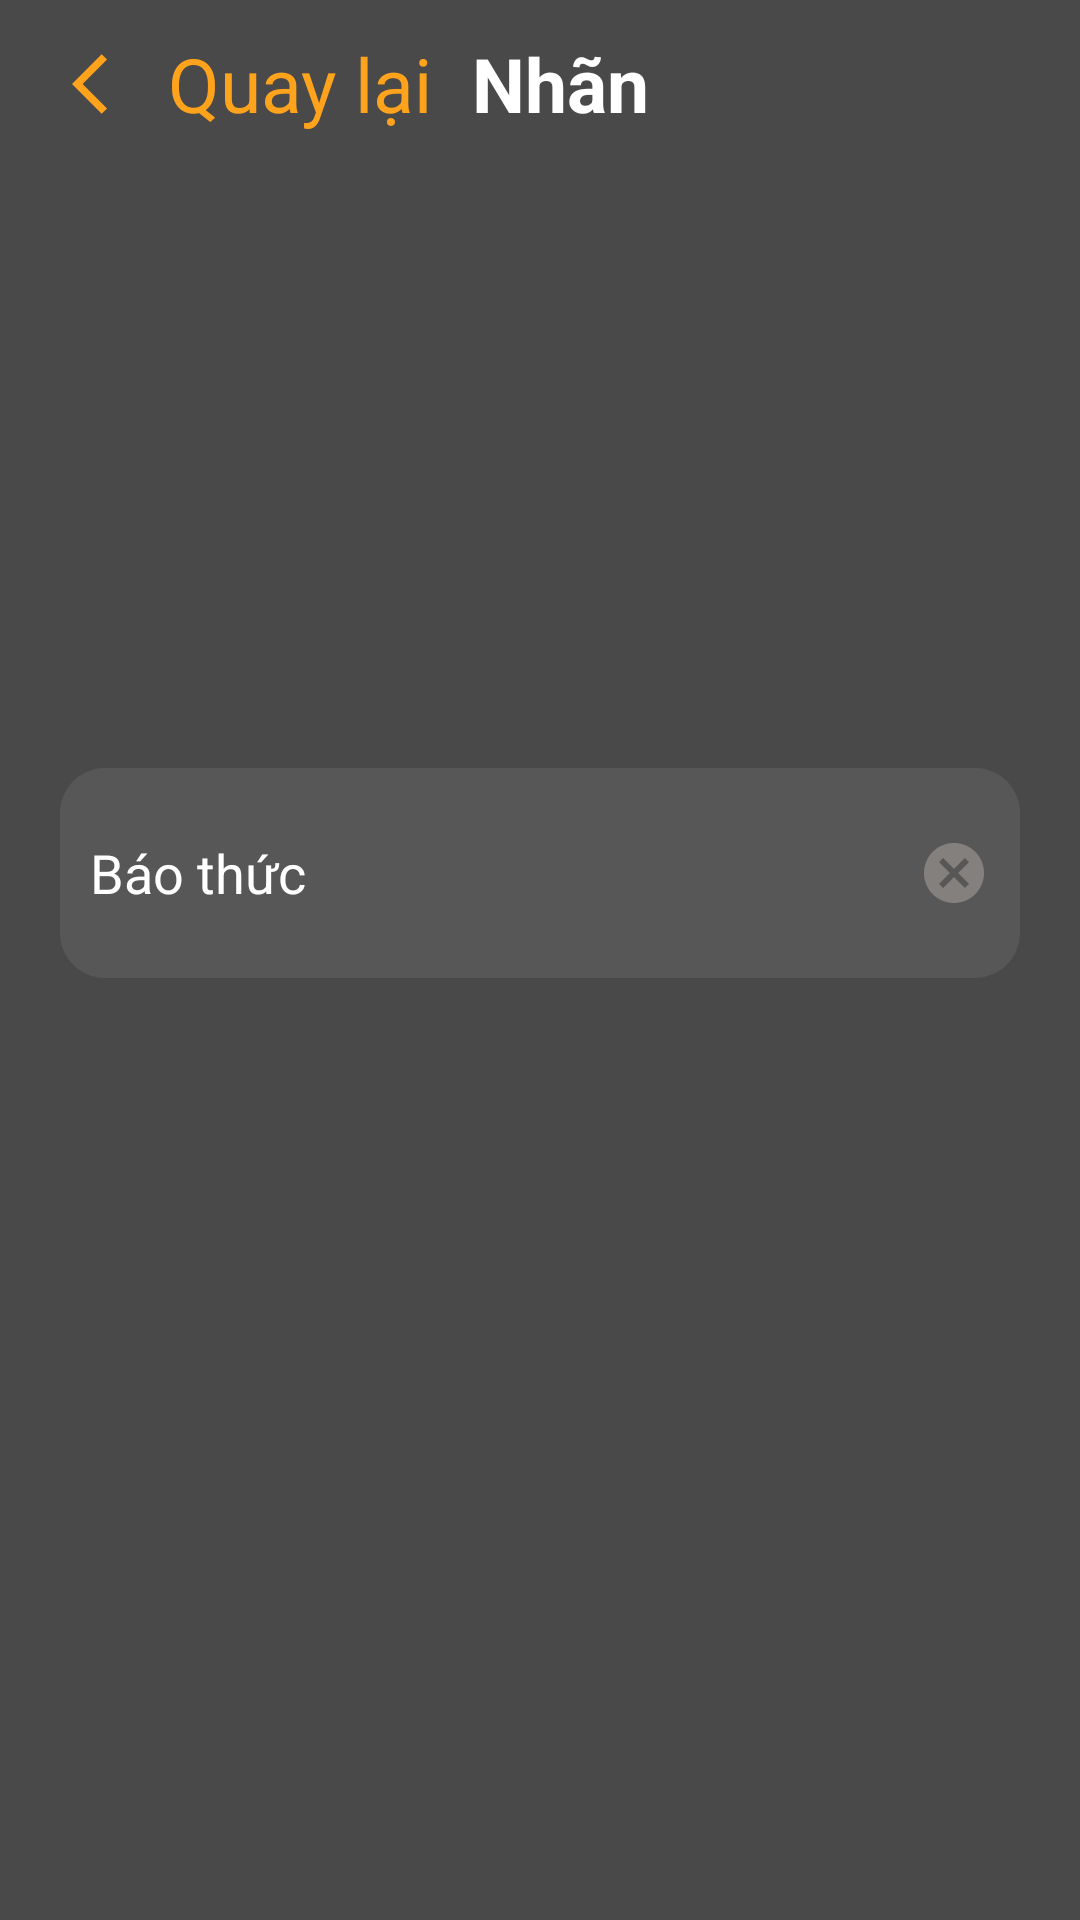

Icons on this 1080px×1920px Android screen, each with the point to tap as (x,y):
arrow back: (89,84)
